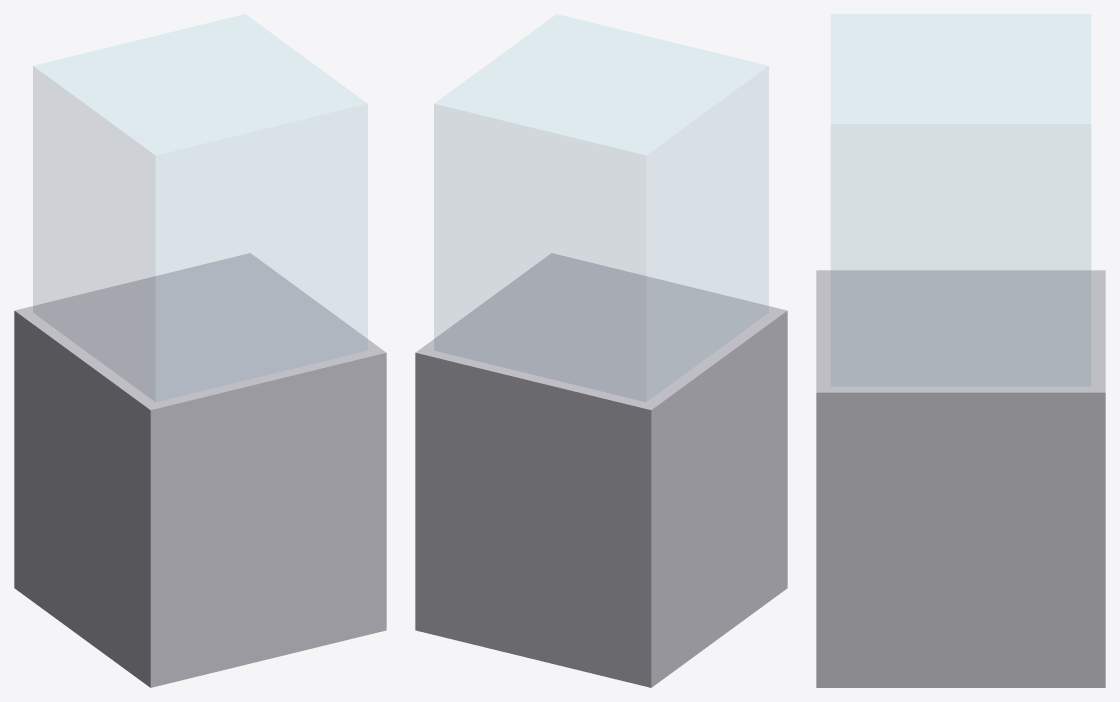
The model's file is vitrine.glb.
3 views of the same model, side by side, from view 1: azimuth 30°, elevation 25°; view 2: azimuth 150°, elevation 25°; view 3: azimuth 270°, elevation 25° (orthographic). The views are drawn at different scales.
Parts seen in each view (by area): view 1: vitrine; view 2: vitrine; view 3: vitrine.
Boxes of the visible parts, bbox=[...] form: vitrine: bbox=[14, 14, 386, 687]; vitrine: bbox=[415, 14, 787, 687]; vitrine: bbox=[816, 14, 1105, 687].
Bounding box in the file's own units: 0.8 × 1.7 × 0.8.
